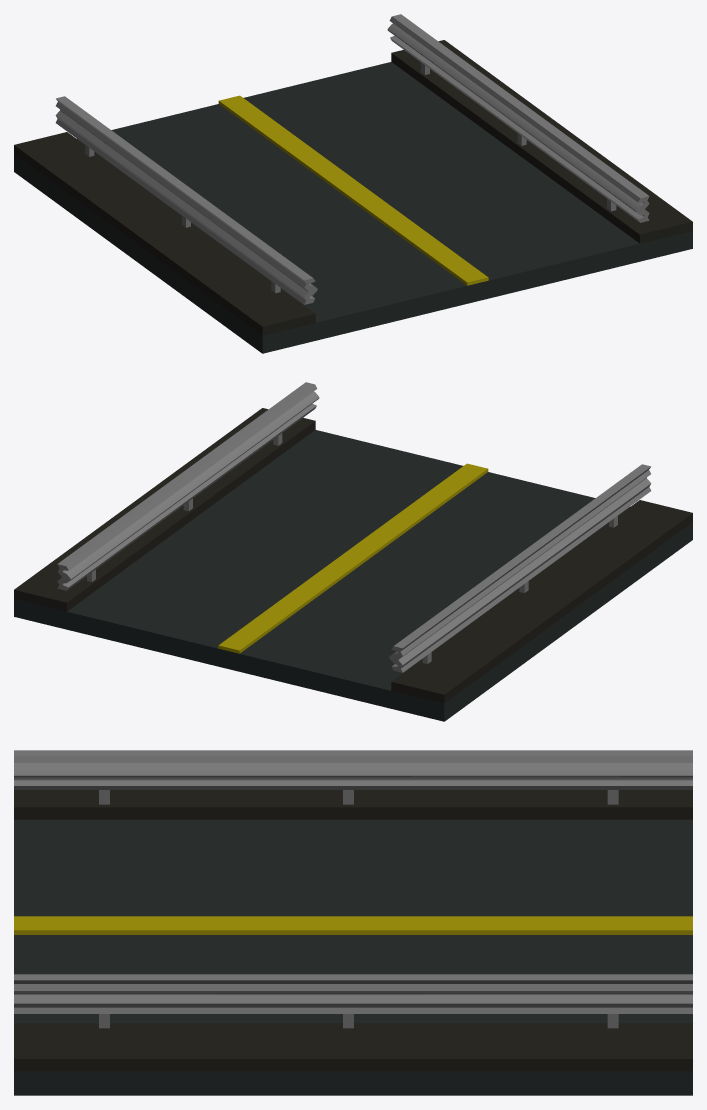
The model's file is Road.fbx.
The picture shows the model from 3 angles, top to bottom: view 1: azimuth 30°, elevation 25°; view 2: azimuth 150°, elevation 25°; view 3: azimuth 270°, elevation 25°; orthographic projection. The views are drawn at different scales.
Parts seen in each view (by area): view 1: Carretera, Placa; view 2: Carretera, Placa; view 3: Carretera, Placa.
Part boxes in pixels (left/top/right/bottom): Carretera: left=14, top=40, right=692, bottom=353; Placa: left=55, top=14, right=649, bottom=304; Carretera: left=14, top=408, right=692, bottom=721; Placa: left=57, top=382, right=651, bottom=672; Carretera: left=14, top=790, right=692, bottom=1095; Placa: left=14, top=750, right=692, bottom=1028.
Size of the model in its own units: 5000 by 702 by 5001.
